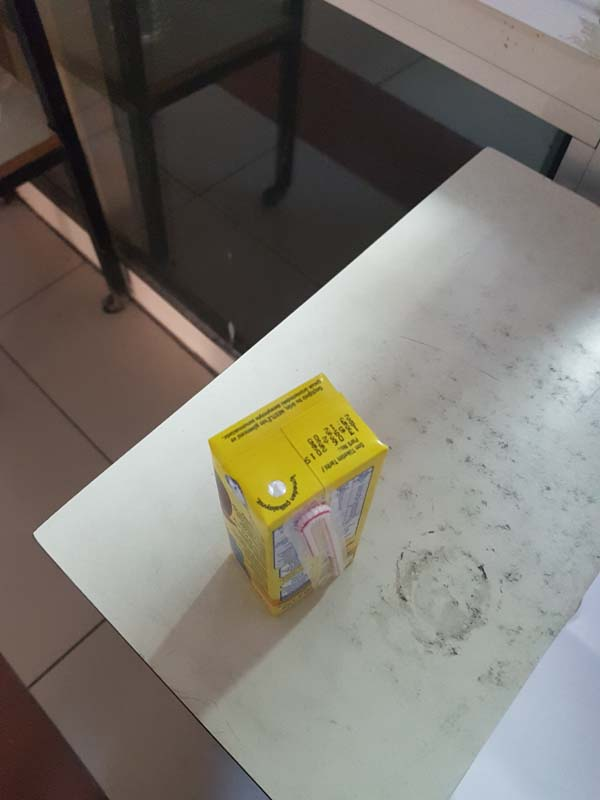nesquick200ml: (201, 366, 394, 619)
